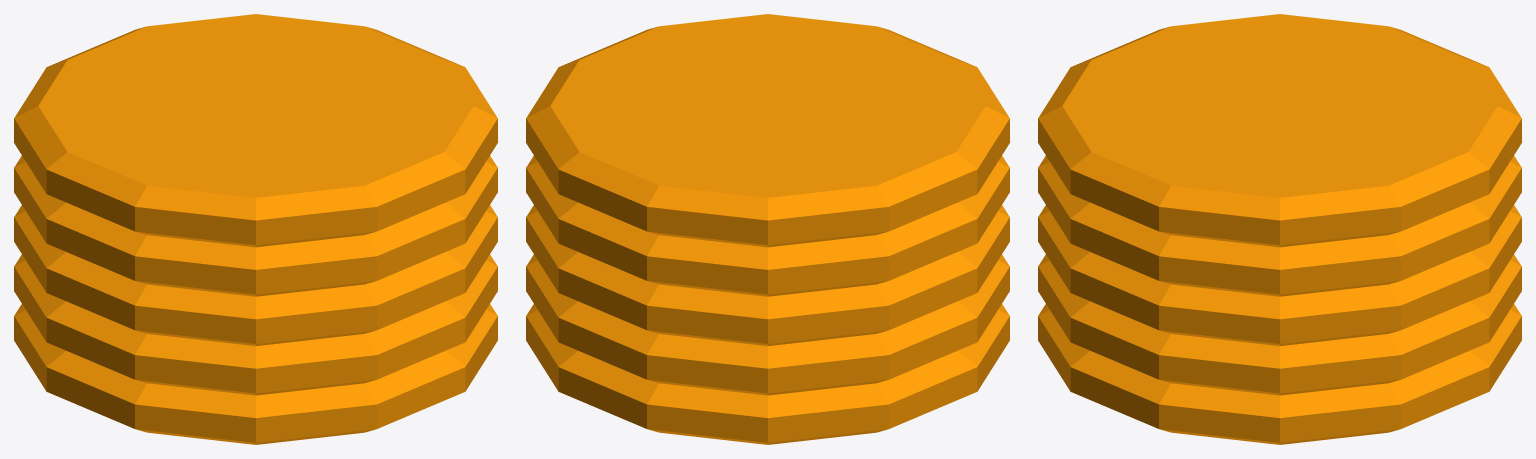
Rendered from barrel03.glb.
3 views of the same model, side by side, from view 1: azimuth 30°, elevation 25°; view 2: azimuth 150°, elevation 25°; view 3: azimuth 270°, elevation 25° (orthographic).
Parts seen in each view (by area): view 1: group645118217; view 2: group645118217; view 3: group645118217.
Part boxes in pixels (x1,y1,x2,y2): group645118217: [14, 14, 497, 444]; group645118217: [526, 14, 1009, 444]; group645118217: [1038, 14, 1521, 444].
Size of the model in its own units: 0.45 by 0.2535 by 0.45.
